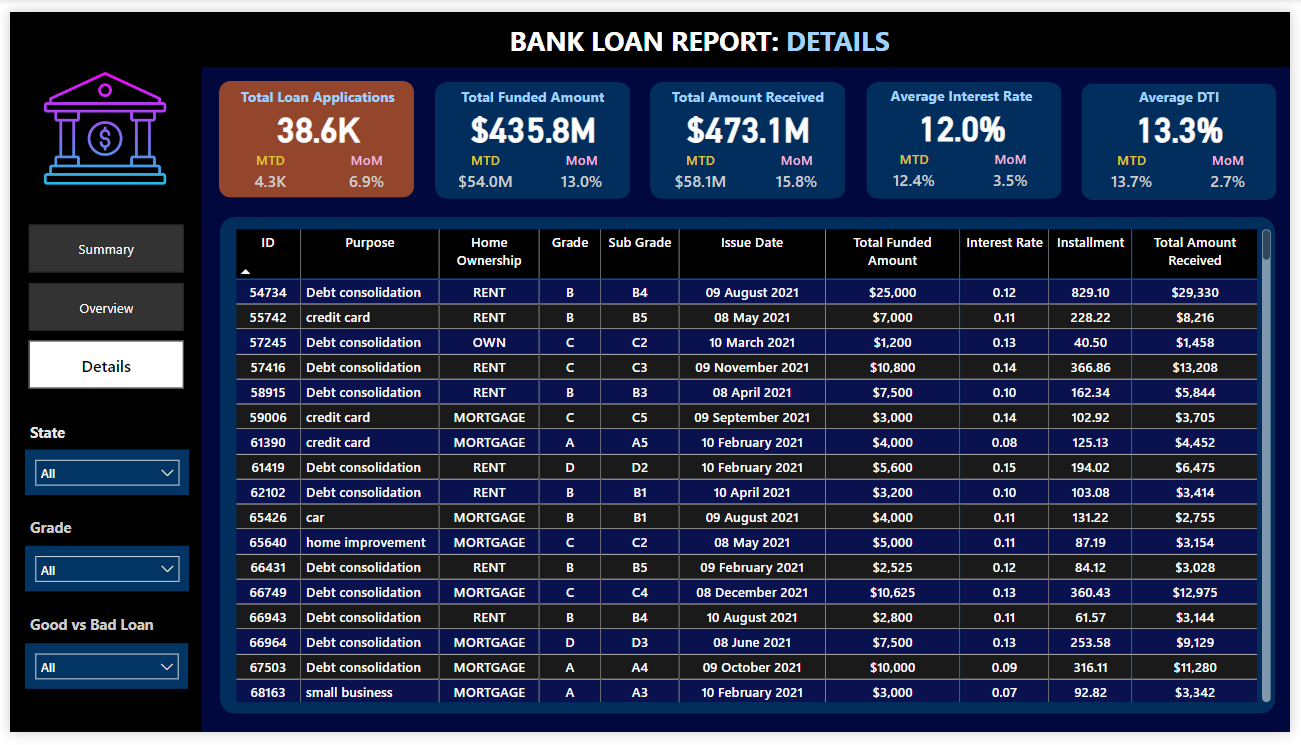

The dashboard page shown, as its layout file describes it:
{"tool":"powerbi","page":{"name":"Details","canvas":[1280,720],"ordinal":2},"visuals":[{"type":"shape","box":[210,205,1055.1,496.8],"z":0},{"type":"shape","box":[0,0,1280.3,54.9],"z":1000},{"type":"shape","box":[0,54.2,192.2,665.4],"z":2000},{"type":"shape","box":[640.1,70.1,195.6,117],"z":3000},{"type":"shape","box":[1071.3,71.1,195.6,117],"z":4000},{"type":"shape","box":[855.7,70.6,195.6,117],"z":5000},{"type":"shape","box":[424.5,69.7,195.6,117],"z":6000},{"type":"shape","box":[208.9,69.2,195.6,117],"z":7000},{"type":"textbox","box":[455.3,5,469.1,45.3],"z":8000},{"type":"group","id":"g1","title":"Group 1","box":[425.1,70.2,194.7,117.1],"z":9000},{"type":"group","id":"g2","title":"Group 1","box":[639.5,70.2,195.9,117.1],"z":10000},{"type":"group","id":"g3","title":"Group 1","box":[853.9,69,195.9,117.1],"z":11000},{"type":"group","id":"g4","title":"Group 1","box":[1070.8,70.2,195.9,117.1],"z":12000},{"type":"group","id":"g5","title":"Group 1","box":[209.5,70.2,194.7,117.1],"z":13000},{"type":"slicer","fields":{"Values":["financial_loan.address_state"]},"box":[14.5,437.8,164.1,45.8],"z":14000},{"type":"card","title":"Total Loan Applications","fields":{"Values":["financial_loan.avg_interest_rate"]},"box":[855.1,94.5,194.3,41.3],"z":15000,"group":"g3"},{"type":"card","title":"Total Loan Applications","fields":{"Values":["financial_loan.total_loan_application"]},"box":[210.7,95.7,194.3,41.3],"z":15000,"group":"g5"},{"type":"card","title":"Total Loan Applications","fields":{"Values":["financial_loan.total_funded_amount"]},"box":[426.3,95.7,194.3,41.3],"z":15000,"group":"g1"},{"type":"card","title":"Total Loan Applications","fields":{"Values":["financial_loan.total_amount_received"]},"box":[640.7,95.7,194.3,41.3],"z":15000,"group":"g2"},{"type":"card","title":"Total Loan Applications","fields":{"Values":["financial_loan.avg_dti"]},"box":[1072,95.7,194.3,41.3],"z":15000,"group":"g4"},{"type":"textbox","box":[15.1,405,61.6,32.7],"z":15000},{"type":"slicer","fields":{"Values":["financial_loan.grade"]},"box":[14.5,534.2,164.1,45.8],"z":16000},{"type":"slicer","fields":{"Values":["financial_loan.Good vs Bad Loan"]},"box":[15.1,631.3,163.5,45.3],"z":17000},{"type":"textbox","box":[15.1,597.4,142.1,34],"z":18000},{"type":"textbox","box":[853.9,69,195.6,32.8],"z":19000,"group":"g3"},{"type":"textbox","box":[209.5,70.2,195.6,32.8],"z":19000,"group":"g5"},{"type":"textbox","box":[425.1,70.2,195.6,32.8],"z":19000,"group":"g1"},{"type":"textbox","box":[639.5,70.2,195.6,32.8],"z":19000,"group":"g2"},{"type":"textbox","box":[1070.8,70.2,195.6,32.8],"z":19000,"group":"g4"},{"type":"textbox","box":[15.1,500.5,61.6,34],"z":19000},{"type":"tableEx","fields":{"Values":["financial_loan.id","financial_loan.purpose","financial_loan.home_ownership","financial_loan.grade","financial_loan.sub_grade","financial_loan.issue_date","financial_loan.Total Funded Amount","financial_loan.int_rate","financial_loan.installment","financial_loan.Total Amount Received"]},"box":[219.6,212.3,1046,482.6],"z":20000},{"type":"image","box":[18.1,27.7,155.6,177.3],"z":21000},{"type":"card","title":"MTD","fields":{"Values":["financial_loan.mtd_avg_interest_rate"]},"box":[855.1,138.2,98.4,47.4],"z":21000,"group":"g3"},{"type":"card","title":"MTD","fields":{"Values":["financial_loan.mtd_loan_applications"]},"box":[210.7,139.4,98.4,47.4],"z":21000,"group":"g5"},{"type":"card","title":"MTD","fields":{"Values":["financial_loan.mtd_funded_amount"]},"box":[426.3,139.4,98.4,47.4],"z":21000,"group":"g1"},{"type":"card","title":"MTD","fields":{"Values":["financial_loan.mtd_amount_received"]},"box":[640.7,139.4,98.4,47.4],"z":21000,"group":"g2"},{"type":"card","title":"MTD","fields":{"Values":["financial_loan.mtd_avg_dti"]},"box":[1072,139.4,98.4,47.4],"z":21000,"group":"g4"},{"type":"pageNavigator","box":[19.3,212.3,155.6,164.1],"z":22000},{"type":"card","title":"MoM","fields":{"Values":["financial_loan.mom_avg_interest_rate"]},"box":[951.1,138.2,98.4,47.4],"z":23000,"group":"g3"},{"type":"card","title":"MoM","fields":{"Values":["financial_loan.mom_loan_applications"]},"box":[306.7,139.4,98.4,47.4],"z":23000,"group":"g5"},{"type":"card","title":"MoM","fields":{"Values":["financial_loan.mom_funded_amount"]},"box":[522.3,139.4,98.4,47.4],"z":23000,"group":"g1"},{"type":"card","title":"MoM","fields":{"Values":["financial_loan.mom_amount_received"]},"box":[736.7,139.4,98.4,47.4],"z":23000,"group":"g2"},{"type":"card","title":"MoM","fields":{"Values":["financial_loan.mom_avg_dti"]},"box":[1168,139.4,98.4,47.4],"z":23000,"group":"g4"}]}

Visuals, with their boxes in screenshot pixels (x1, y1, x2, y2), scaled from the page's 1280x720 canvas onto the 1301x745 screenshot:
shape: <bbox>213, 212, 1286, 726</bbox>
shape: <bbox>0, 0, 1300, 57</bbox>
shape: <bbox>0, 56, 195, 744</bbox>
shape: <bbox>651, 73, 849, 194</bbox>
shape: <bbox>1089, 74, 1288, 195</bbox>
shape: <bbox>870, 73, 1069, 194</bbox>
shape: <bbox>431, 72, 630, 193</bbox>
shape: <bbox>212, 72, 411, 193</bbox>
textbox: <bbox>463, 5, 940, 52</bbox>
"Group 1" group: <bbox>432, 73, 630, 194</bbox>
"Group 1" group: <bbox>650, 73, 849, 194</bbox>
"Group 1" group: <bbox>868, 71, 1067, 193</bbox>
"Group 1" group: <bbox>1088, 73, 1287, 194</bbox>
"Group 1" group: <bbox>213, 73, 411, 194</bbox>
slicer - financial_loan.address_state: <bbox>15, 453, 182, 500</bbox>
"Total Loan Applications" card: <bbox>869, 98, 1067, 141</bbox>
"Total Loan Applications" card: <bbox>214, 99, 412, 142</bbox>
"Total Loan Applications" card: <bbox>433, 99, 631, 142</bbox>
"Total Loan Applications" card: <bbox>651, 99, 849, 142</bbox>
"Total Loan Applications" card: <bbox>1090, 99, 1287, 142</bbox>
textbox: <bbox>15, 419, 78, 453</bbox>
slicer - financial_loan.grade: <bbox>15, 553, 182, 600</bbox>
slicer - financial_loan.Good vs Bad Loan: <bbox>15, 653, 182, 700</bbox>
textbox: <bbox>15, 618, 160, 653</bbox>
textbox: <bbox>868, 71, 1067, 105</bbox>
textbox: <bbox>213, 73, 412, 107</bbox>
textbox: <bbox>432, 73, 631, 107</bbox>
textbox: <bbox>650, 73, 849, 107</bbox>
textbox: <bbox>1088, 73, 1287, 107</bbox>
textbox: <bbox>15, 518, 78, 553</bbox>
tableEx - financial_loan.id x financial_loan.purpose: <bbox>223, 220, 1286, 719</bbox>
image: <bbox>18, 29, 177, 212</bbox>
"MTD" card: <bbox>869, 143, 969, 192</bbox>
"MTD" card: <bbox>214, 144, 314, 193</bbox>
"MTD" card: <bbox>433, 144, 533, 193</bbox>
"MTD" card: <bbox>651, 144, 751, 193</bbox>
"MTD" card: <bbox>1090, 144, 1190, 193</bbox>
pageNavigator: <bbox>20, 220, 178, 389</bbox>
"MoM" card: <bbox>967, 143, 1067, 192</bbox>
"MoM" card: <bbox>312, 144, 412, 193</bbox>
"MoM" card: <bbox>531, 144, 631, 193</bbox>
"MoM" card: <bbox>749, 144, 849, 193</bbox>
"MoM" card: <bbox>1187, 144, 1287, 193</bbox>
